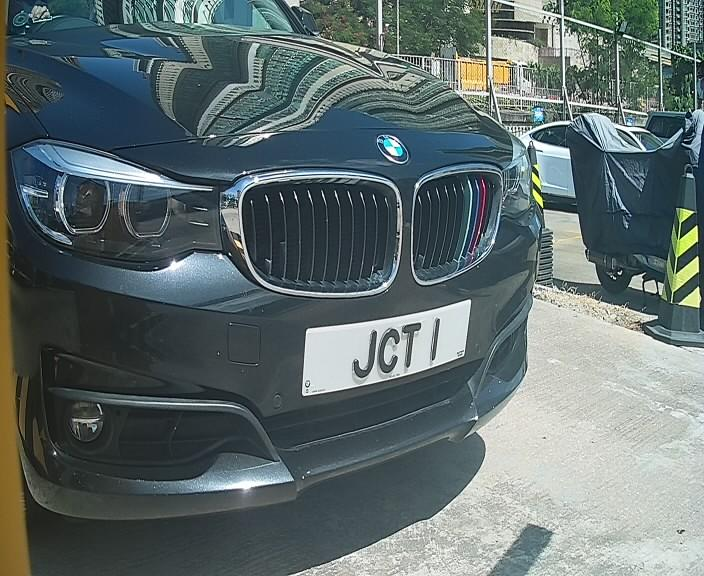License Plate: (309, 299, 466, 399)
